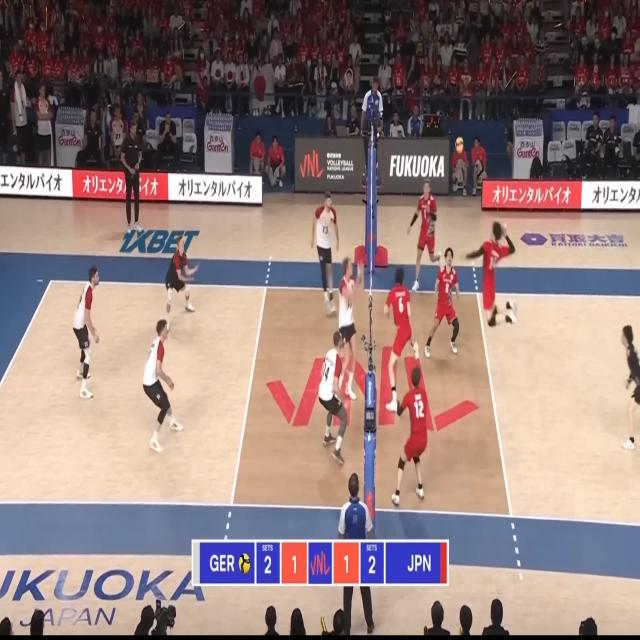ball: (456, 137, 463, 153)
